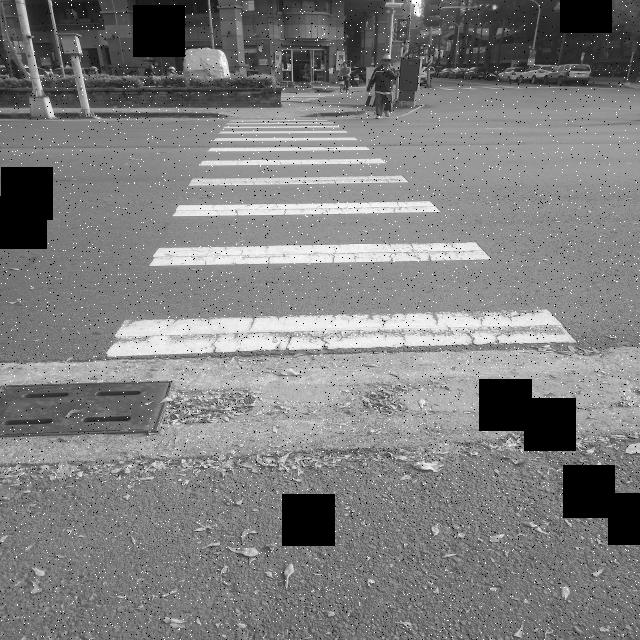zebra_crossing: (214, 42, 640, 133), (195, 47, 588, 139), (171, 0, 283, 293), (127, 49, 446, 151), (174, 31, 518, 94)
